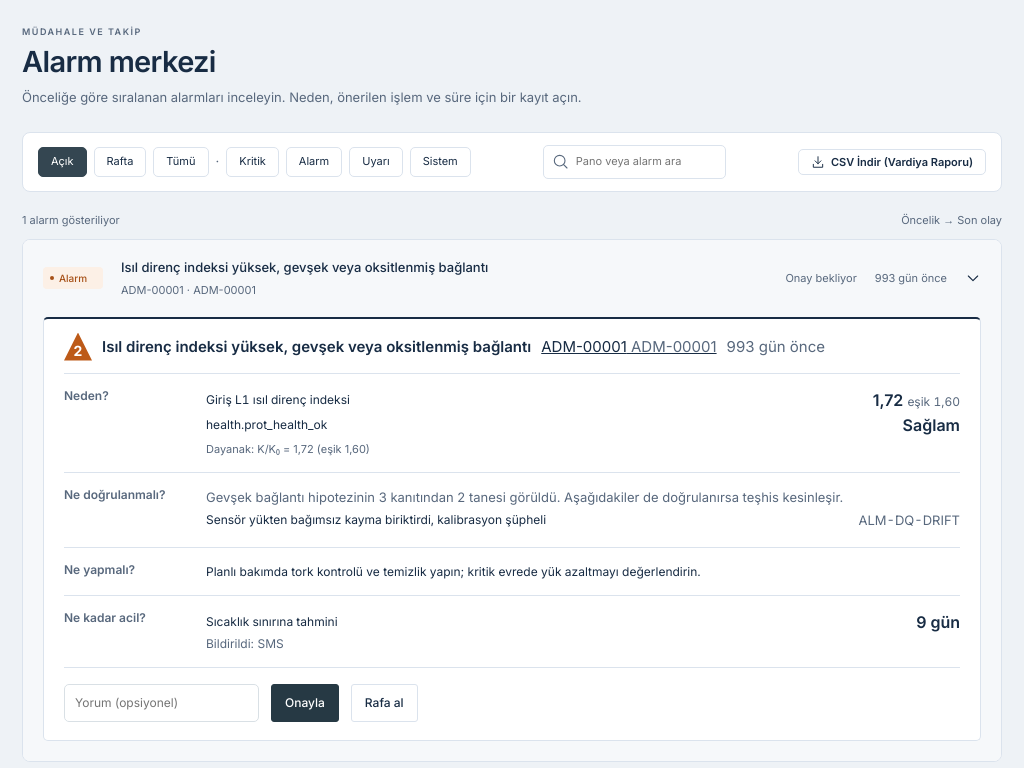
Test: AlarmKonsolu — belirtecsiz onay › 401'i operatorun okuyabilecegi tek satira cevirir, sessiz kalmaz
The image size is (1024, 768).
Click the button "Onayla": (305,703) [271, 684, 339, 722]
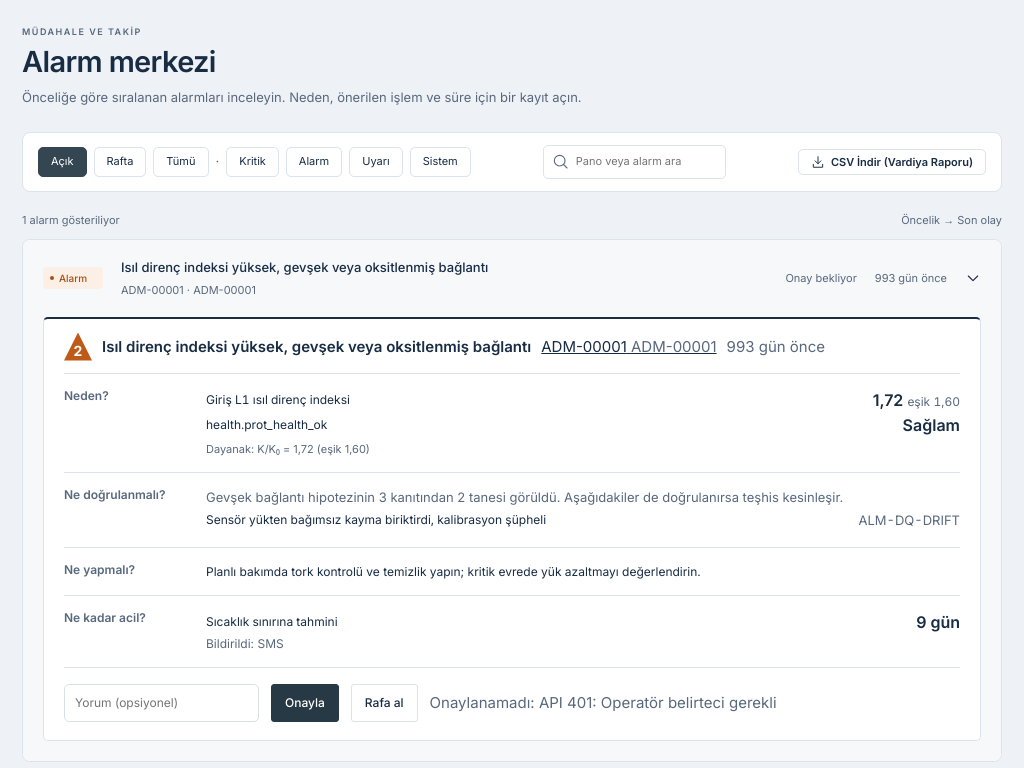
Now the text "Onaylanamadı: API 401: Operatör belirteci gerekli" is shown, box [430, 691, 777, 715]
